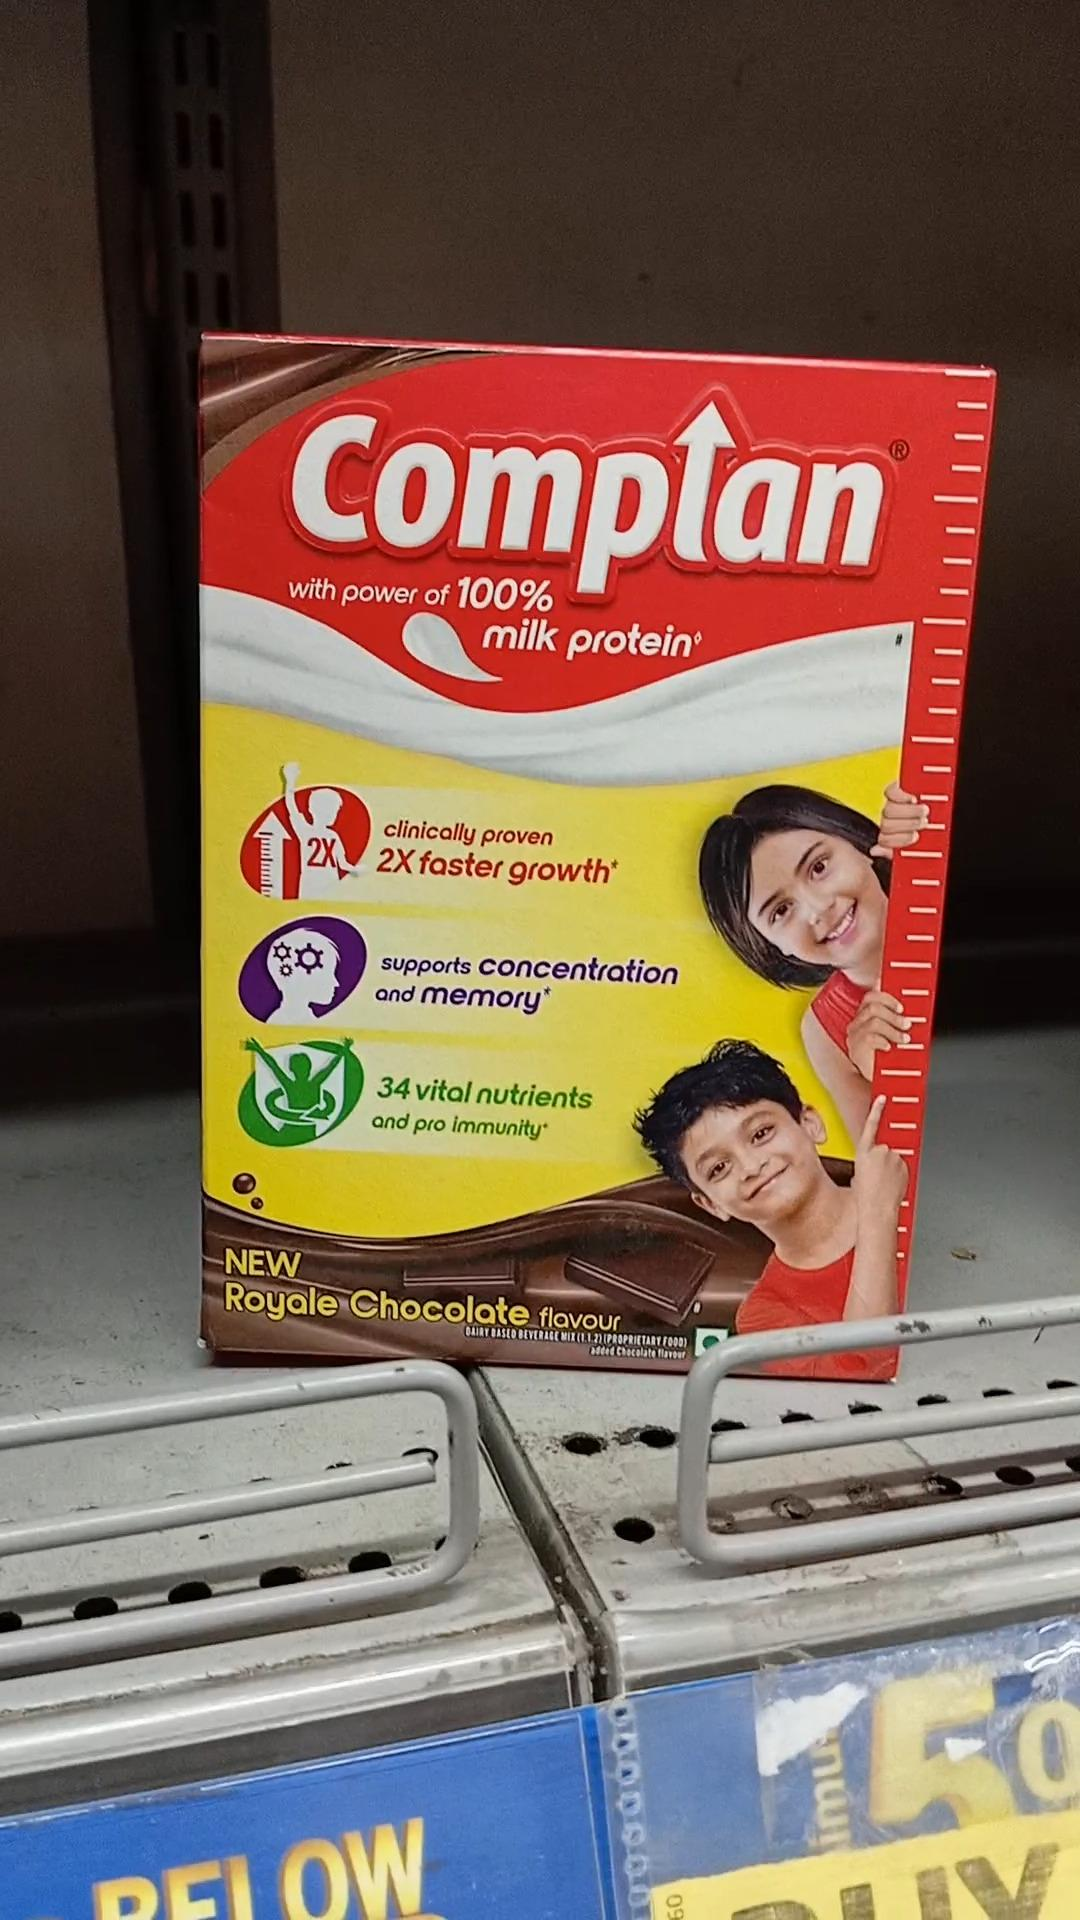COMPLAN_CHOCOLATE_200_GMS_PACK: (200, 324, 899, 1379)
